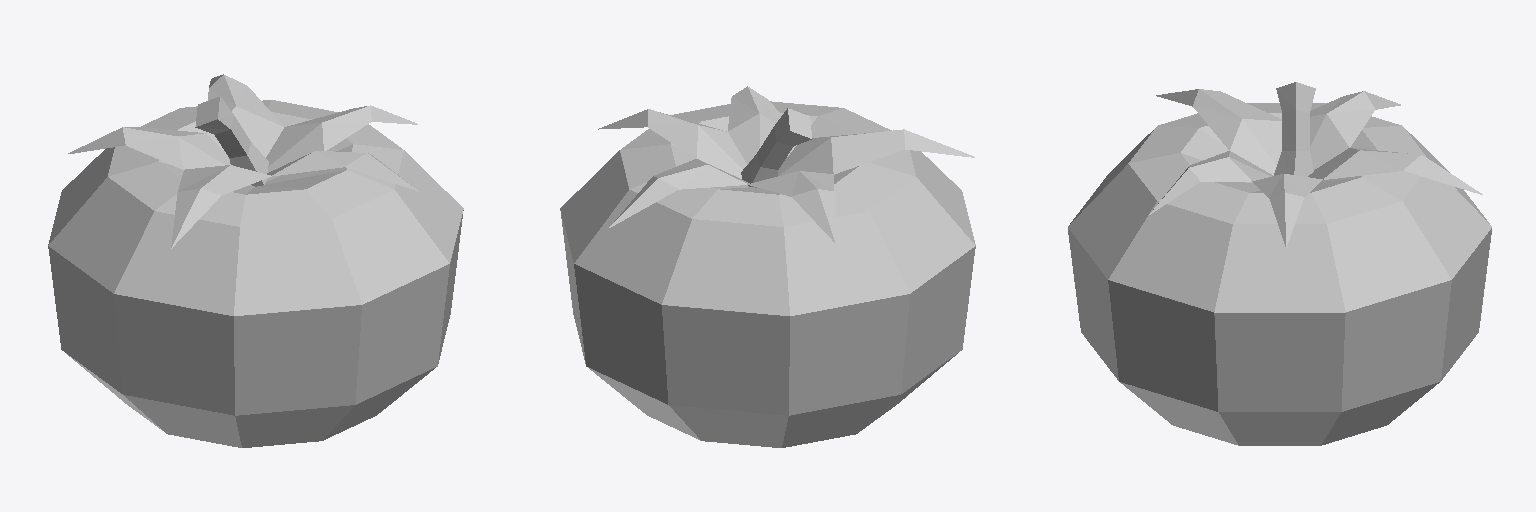
The model's file is Tomato.OBJ.
3 renders of one model, left to right at view 1: azimuth 30°, elevation 25°; view 2: azimuth 150°, elevation 25°; view 3: azimuth 270°, elevation 25°, orthographic.
Size of the model in its own units: 0.0884 by 0.0776 by 0.093.